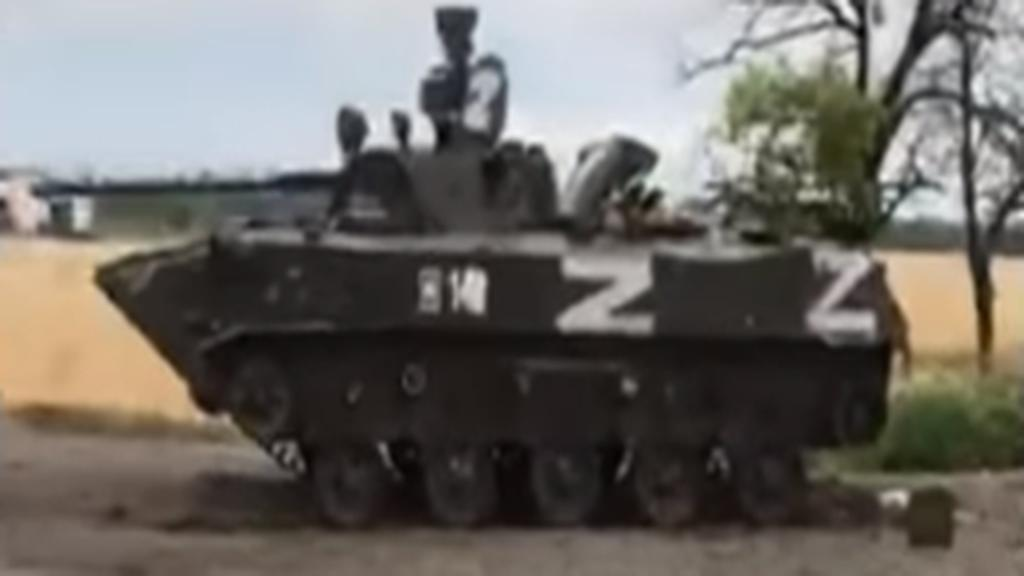APC-IFV: (30, 122, 906, 532)
